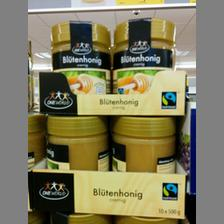Honig: (113, 116, 179, 173), (45, 114, 111, 170), (113, 18, 180, 70), (50, 20, 110, 68)
